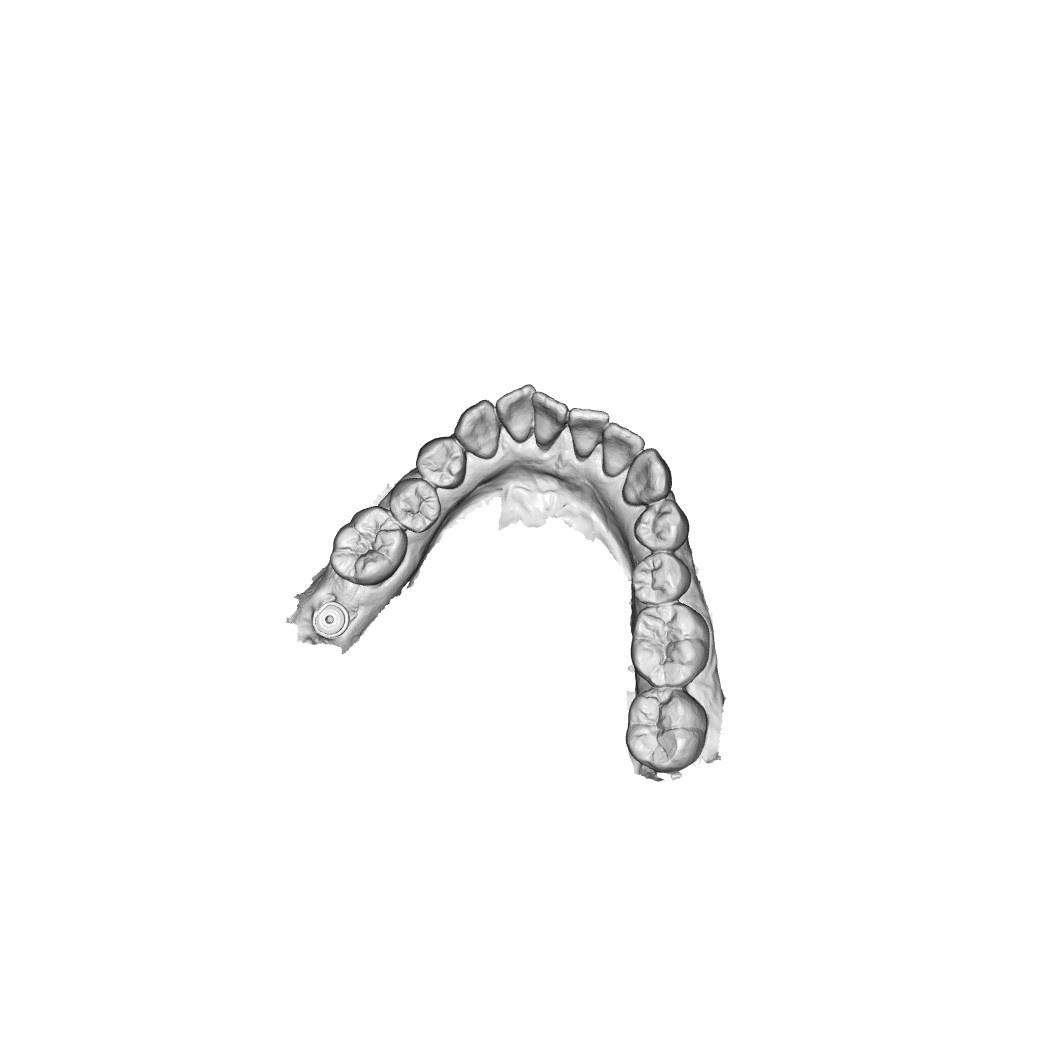canine: (621, 449, 672, 505), (458, 402, 501, 457)
implant: (311, 597, 354, 645)
incisor: (530, 393, 569, 451), (500, 386, 541, 441), (568, 403, 607, 459), (602, 424, 640, 473)
molar: (633, 605, 710, 688), (329, 505, 406, 586), (629, 692, 707, 764)
premolar: (630, 551, 688, 601), (416, 439, 466, 487), (395, 479, 438, 532), (638, 500, 685, 547)
